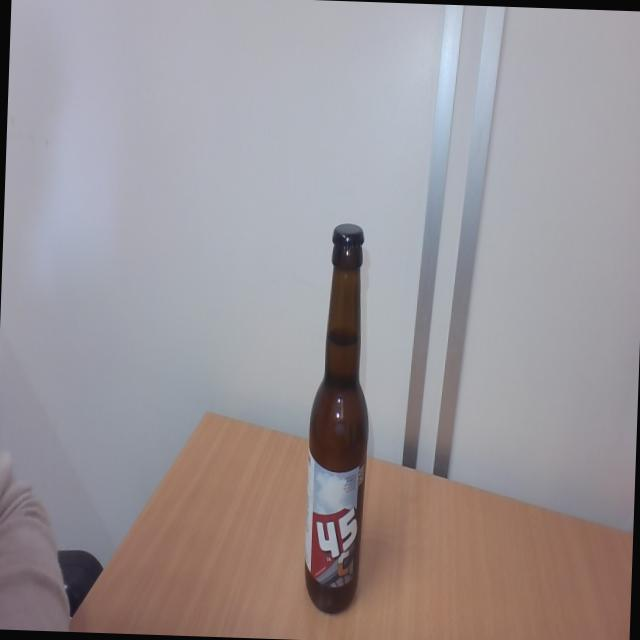Bottle: (301, 252, 374, 614)
Cap: (330, 220, 368, 252)
Label: (303, 454, 365, 586)
